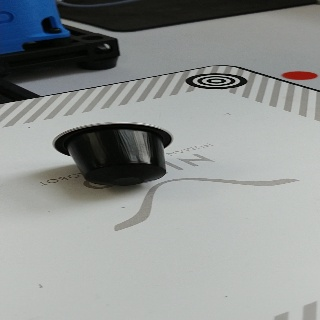capsule_10: (51, 120, 175, 185)
